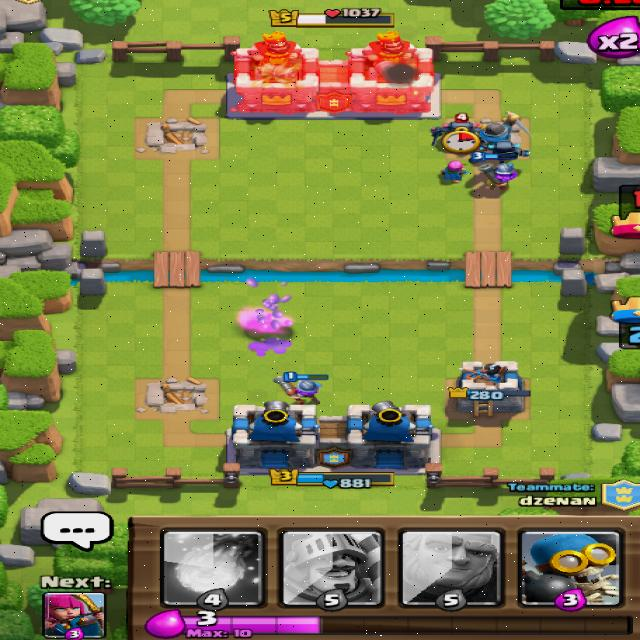Enemy-MiniPEKKA: (428, 112, 481, 145)
Player-Archer: (436, 159, 469, 183)
Player-Knight: (477, 110, 529, 143)
Player-MiniPEKKA: (486, 141, 532, 163)
Player-Musketeer: (469, 150, 519, 191), (271, 370, 328, 405)
